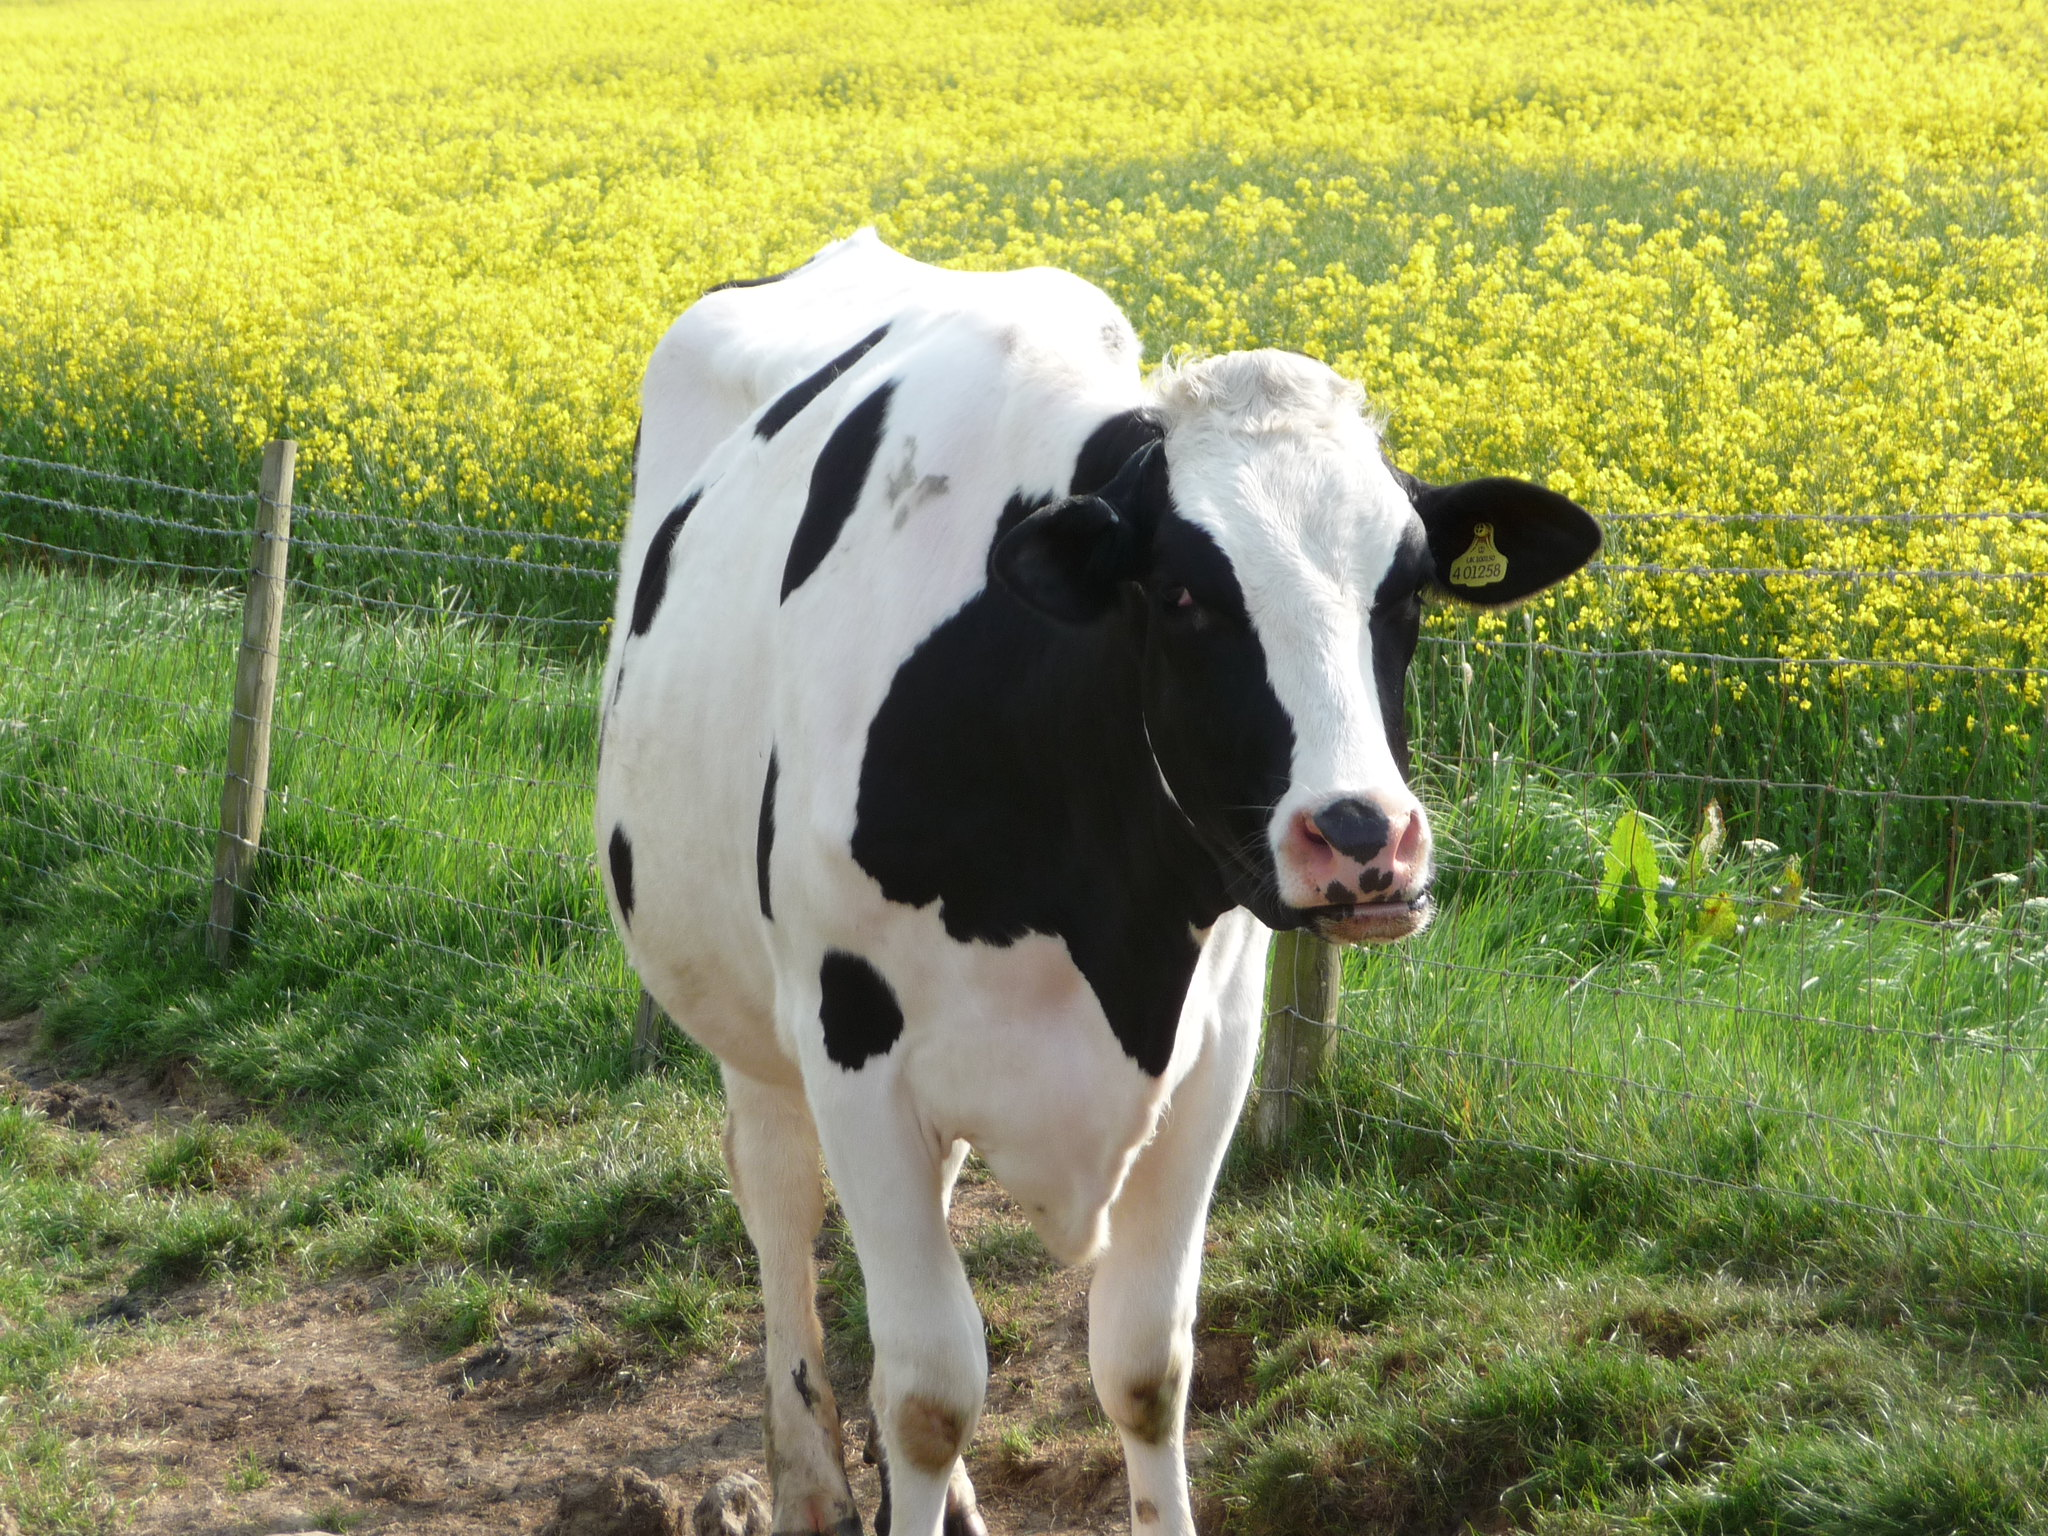cow: (597, 215, 1614, 1536)
